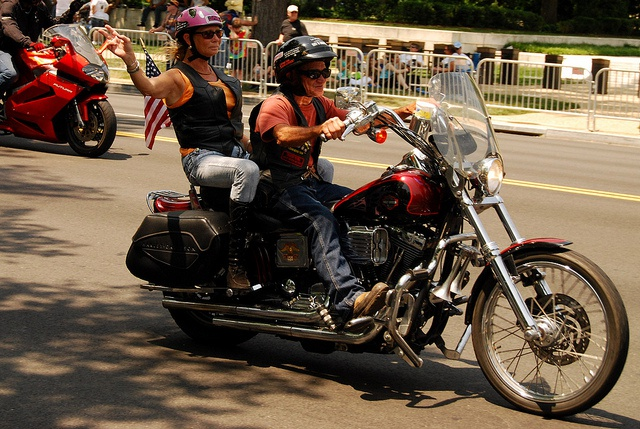non-vehicle: (121, 68, 633, 367), (0, 22, 117, 157)
